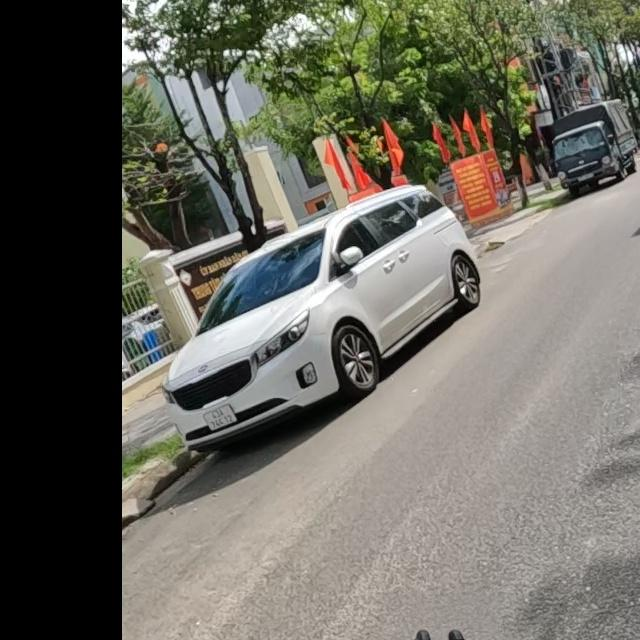license-plate: (202, 403, 239, 432)
